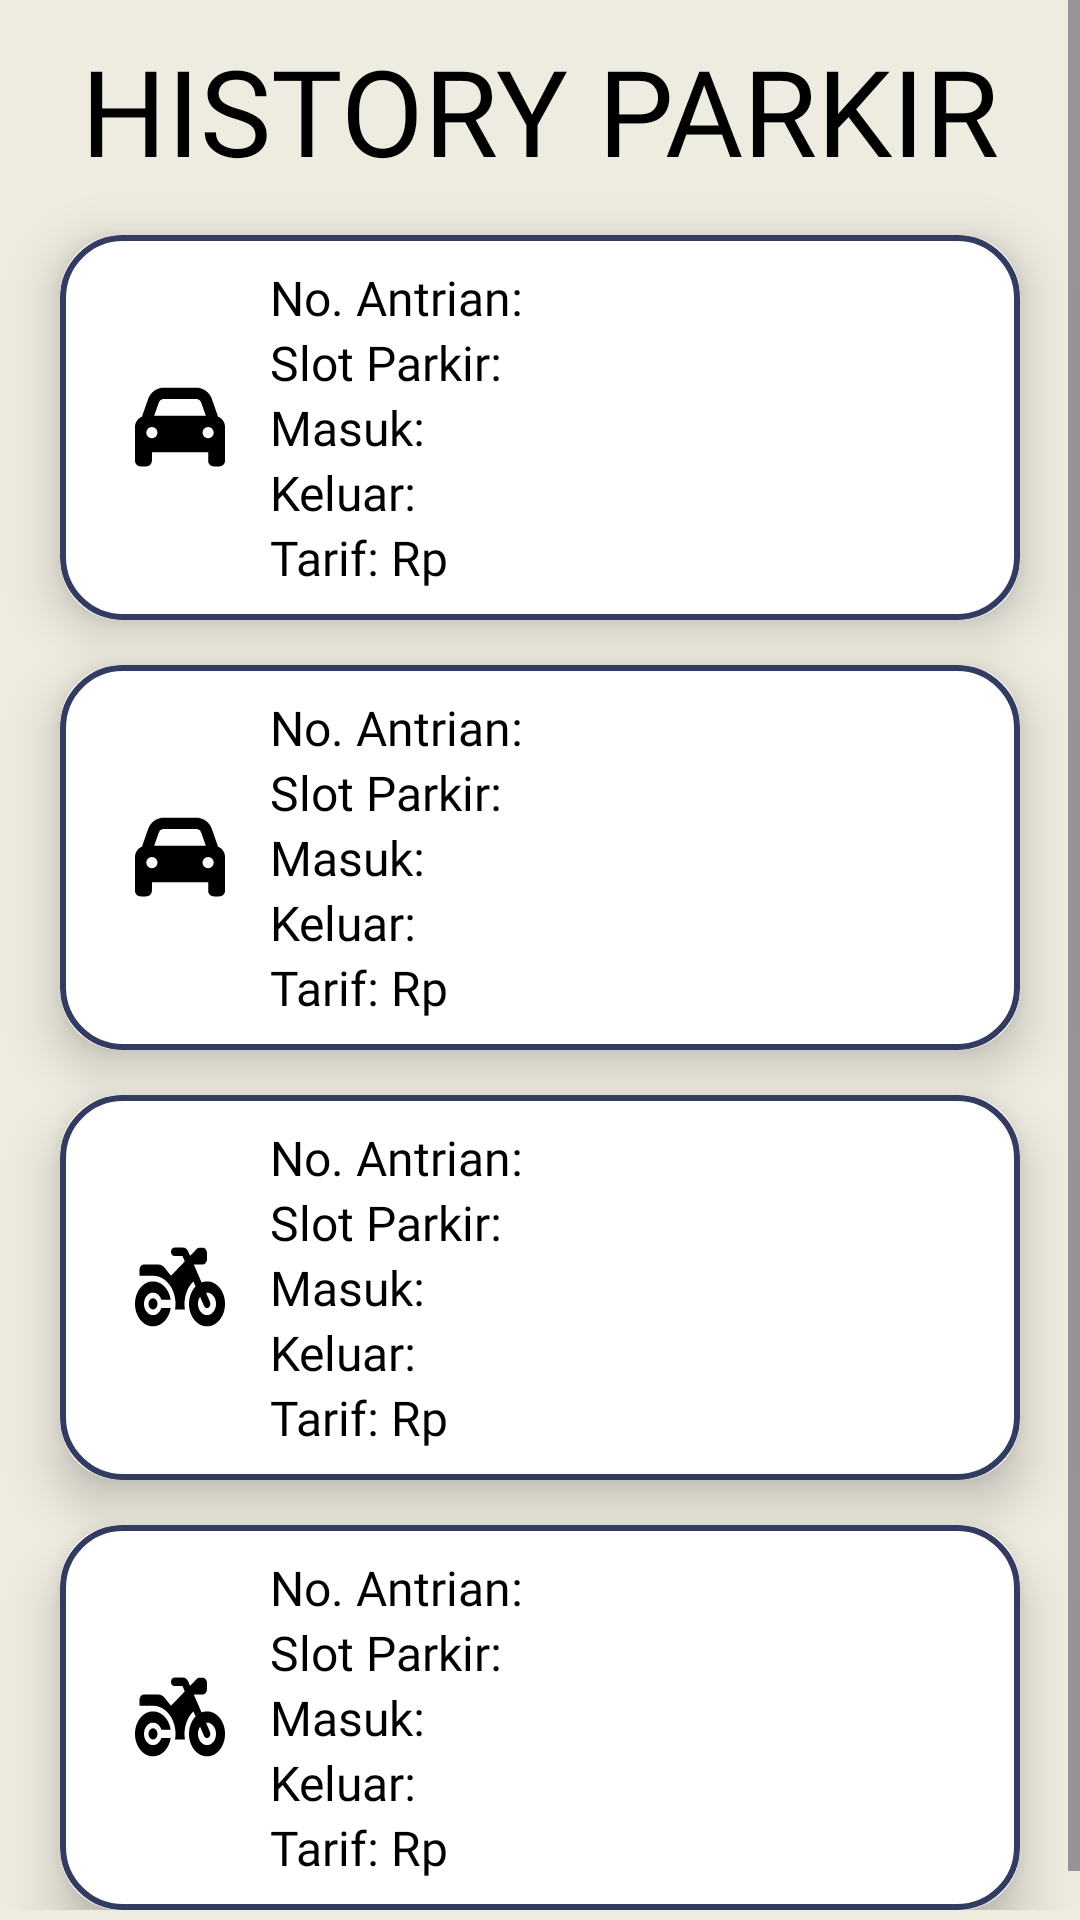

Icon click points for this 1080×1920 phone screenshot, format [x,y]:
car: [180,427], [180,857]
motorcycle: [180,1287], [180,1717]
